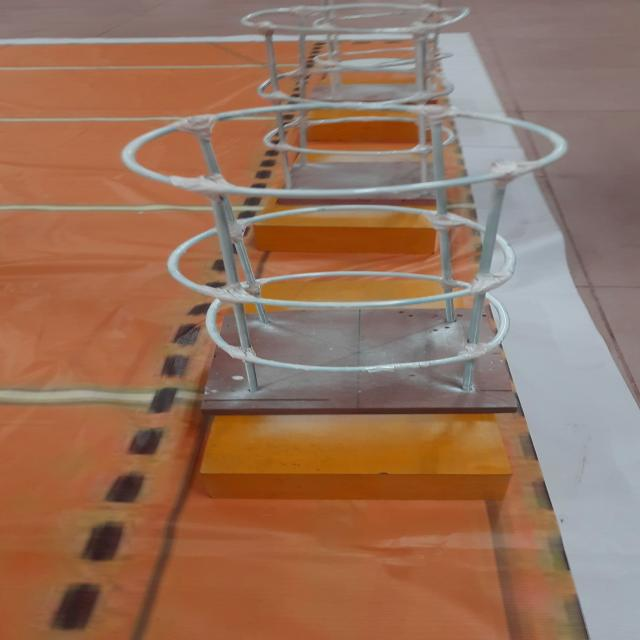silo: (130, 102, 548, 416), (241, 3, 528, 204)
